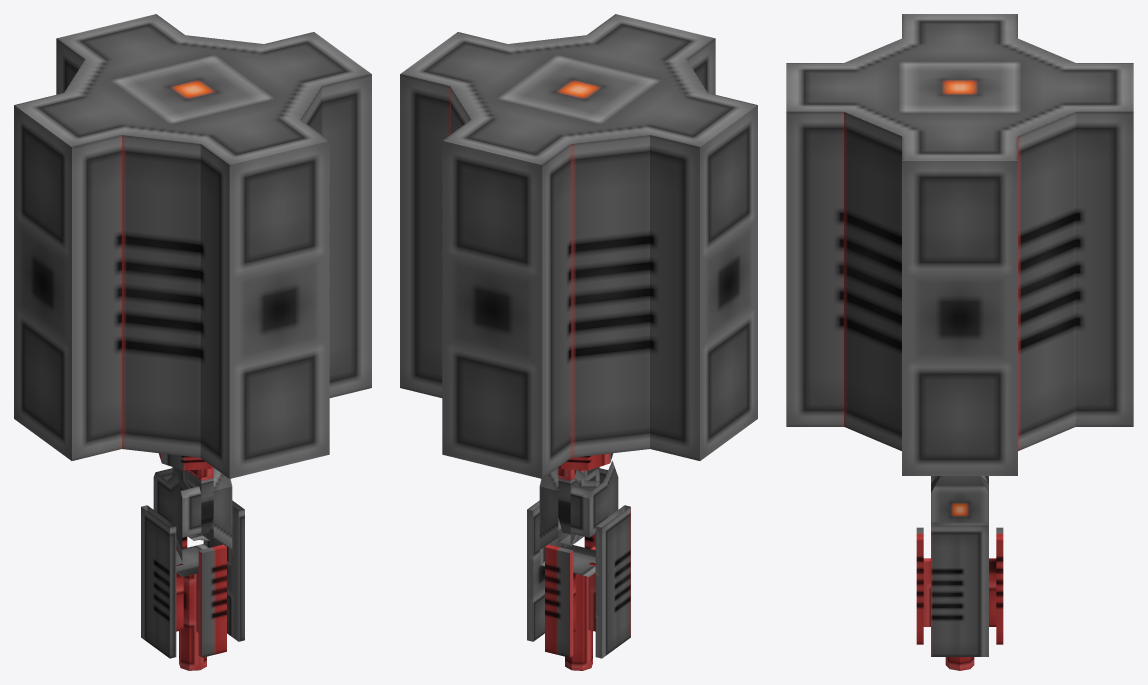
File: mining_laser.obj
The picture shows the model from 3 angles, left to right: view 1: azimuth 30°, elevation 25°; view 2: azimuth 150°, elevation 25°; view 3: azimuth 270°, elevation 25°; orthographic projection.
Parts seen in each view (by area): view 1: Base, Laser, Pivot; view 2: Base, Laser, Pivot; view 3: Base, Laser.
Part boxes in pixels (x1,y1,x2,y2): Base: (14, 14, 371, 478); Laser: (141, 467, 244, 670); Pivot: (158, 453, 213, 535); Base: (400, 14, 757, 478); Laser: (527, 461, 630, 670); Pivot: (558, 453, 613, 534); Base: (786, 14, 1133, 475); Laser: (916, 476, 1003, 670).
Bounding box in the file's own units: 3 × 5.5 × 3.
